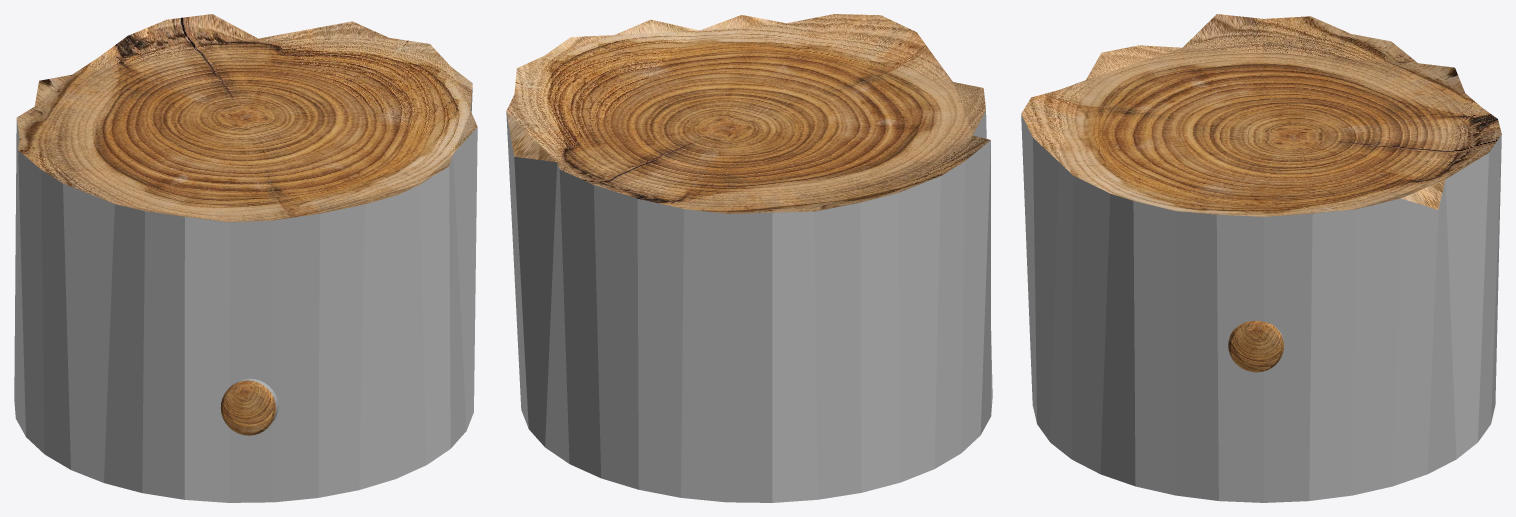
The model's file is ChopStump.fbx.
3 views of the same model, side by side, from view 1: azimuth 30°, elevation 25°; view 2: azimuth 150°, elevation 25°; view 3: azimuth 270°, elevation 25° (orthographic). The views are drawn at different scales.
Parts seen in each view (by area): view 1: Cylinder.002; view 2: Cylinder.002; view 3: Cylinder.002.
Boxes of the visible parts, x1=… form: Cylinder.002: x1=14, y1=14, x2=477, y2=502; Cylinder.002: x1=506, y1=14, x2=992, y2=502; Cylinder.002: x1=1021, y1=14, x2=1501, y2=502.
Bounding box in the file's own units: 209 × 140 × 208.
